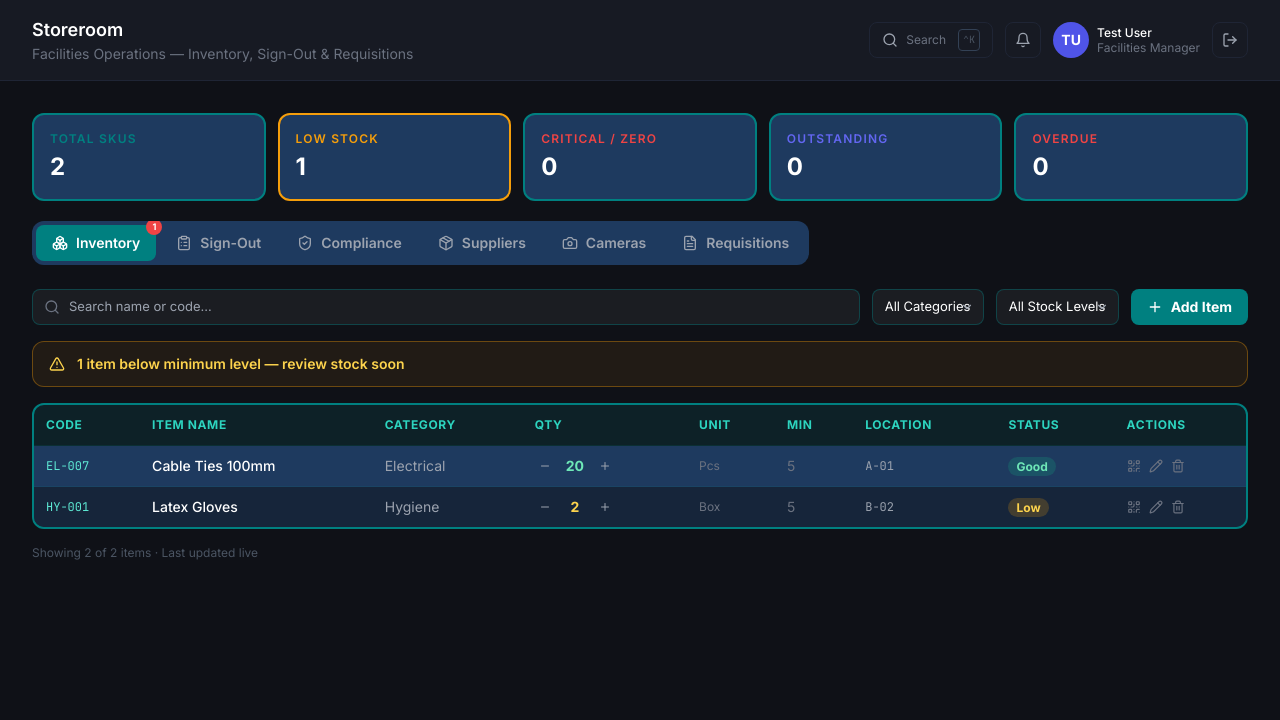
Test case: StoreroomPage › shows validation error when modal is submitted without required fields
Click the button "Add Item" at (1189, 307), box [1131,289,1248,325]
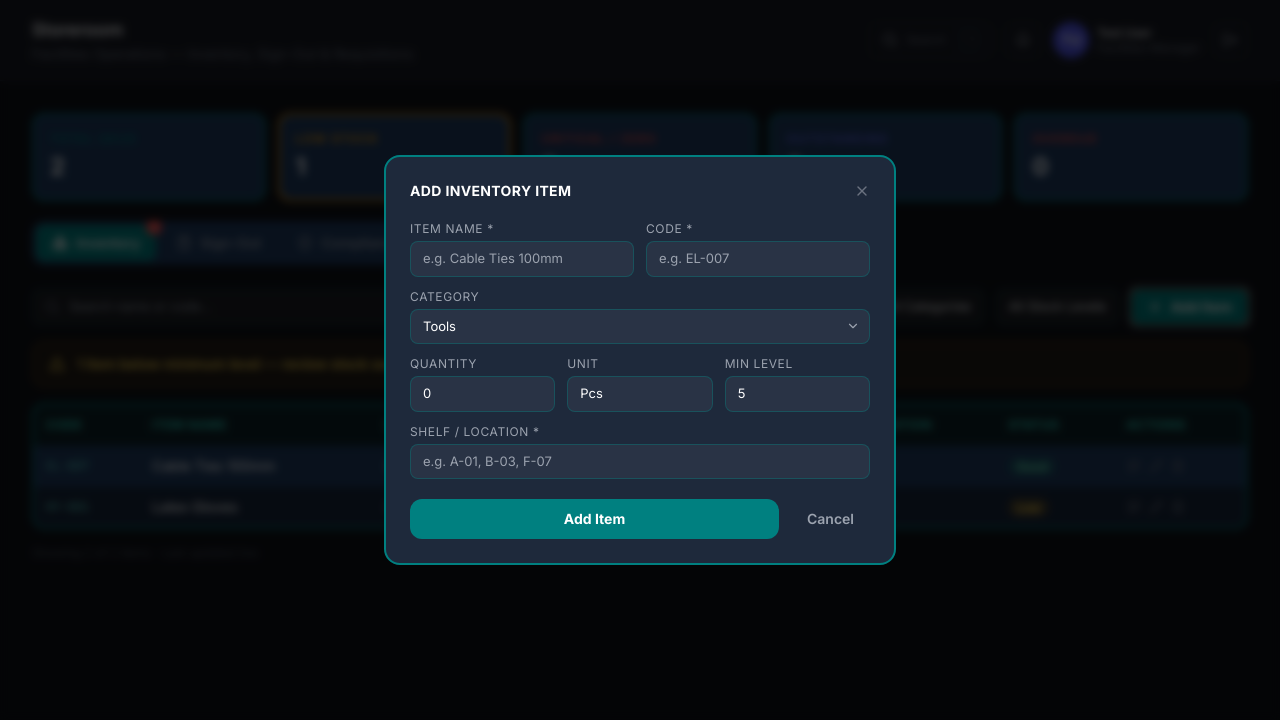
Two "Add Item" buttons: toolbar + modal submit — click the modal one (last)
Click the button "Add Item" at (594, 519), box [410,499,779,539]
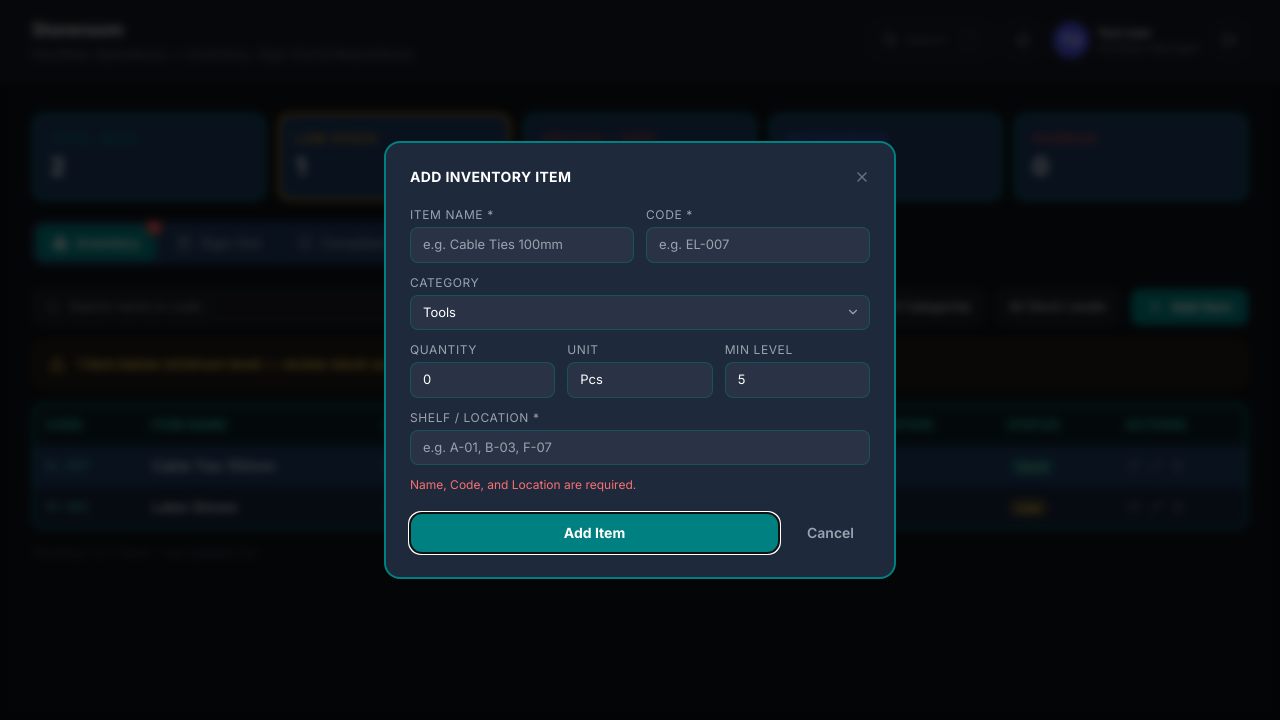
Check: the text "Name, Code, and Location are required." is shown, box [410,477,636,492]
